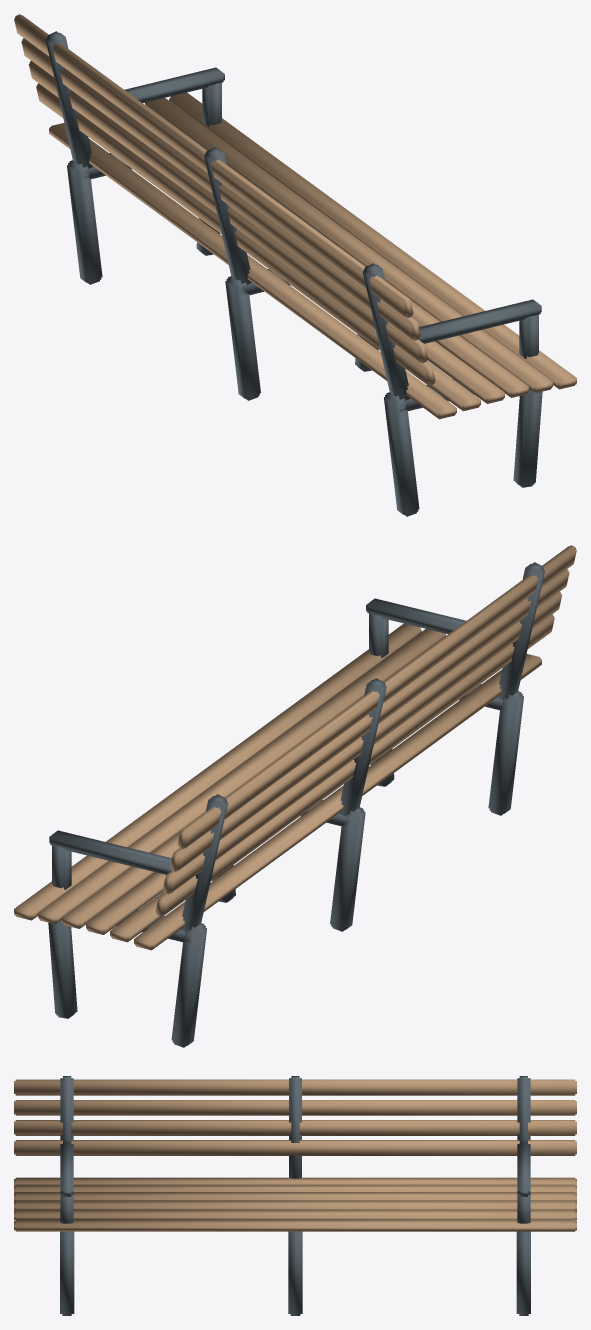
Rendered from bench-promenade.glb.
The picture shows the model from 3 angles, top to bottom: view 1: azimuth 30°, elevation 25°; view 2: azimuth 150°, elevation 25°; view 3: azimuth 270°, elevation 25°; orthographic projection. The views are drawn at different scales.
Parts seen in each view (by area): view 1: bench_teak, bench_iron; view 2: bench_teak, bench_iron; view 3: bench_teak, bench_iron.
Part boxes in pixels (left/top/right/bottom): bench_teak: left=14, top=14, right=576, bottom=419; bench_iron: left=45, top=31, right=542, bottom=516; bench_teak: left=14, top=545, right=576, bottom=950; bench_iron: left=48, top=562, right=545, bottom=1047; bench_teak: left=14, top=1079, right=576, bottom=1231; bench_iron: left=60, top=1076, right=530, bottom=1315.
Size of the model in its own units: 0.7184 by 0.9981 by 2.76.
